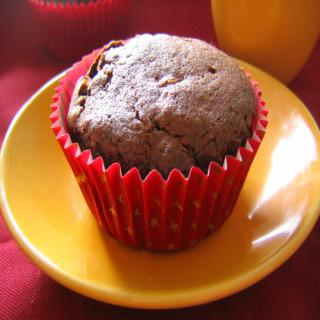Muffin: (48, 30, 269, 252), (29, 0, 128, 62)
